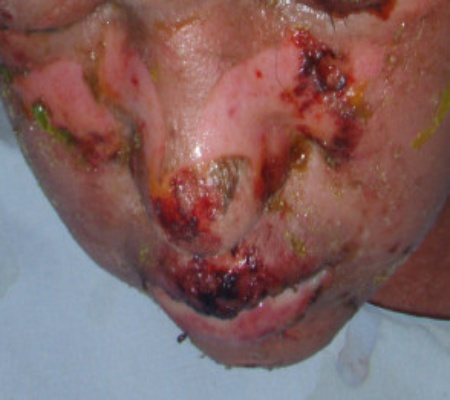SJS-TEN: (0, 0, 450, 381)
